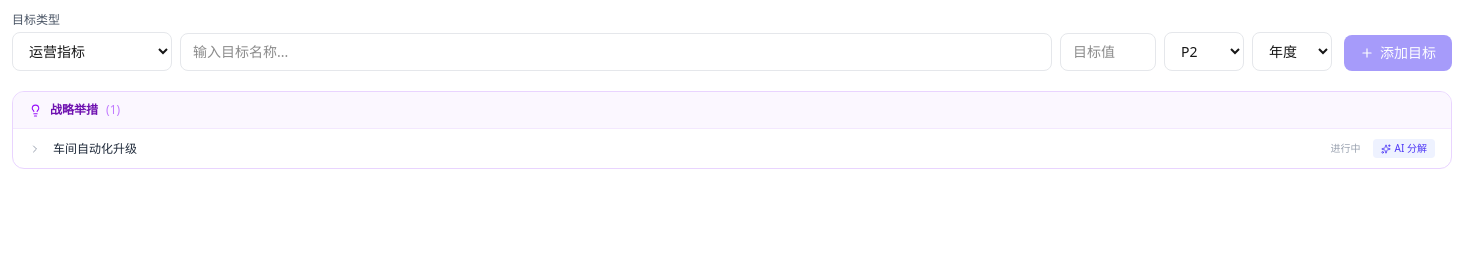
Test case: StrategicGoalsTab › strategic initiatives › shows description when initiative is expanded
// Click to expand
What coordinates should you click on to do the following:
click the text "车间自动化升级"
I would click on:
 (95, 148)
Its box is top-left (53, 140), bottom-right (137, 156).
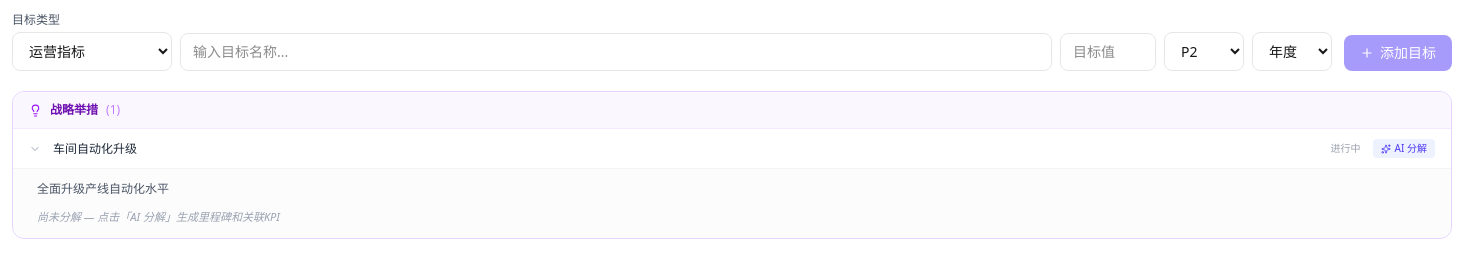
Expected: the text "全面升级产线自动化水平" is shown, top-left (37, 180), bottom-right (169, 197)
